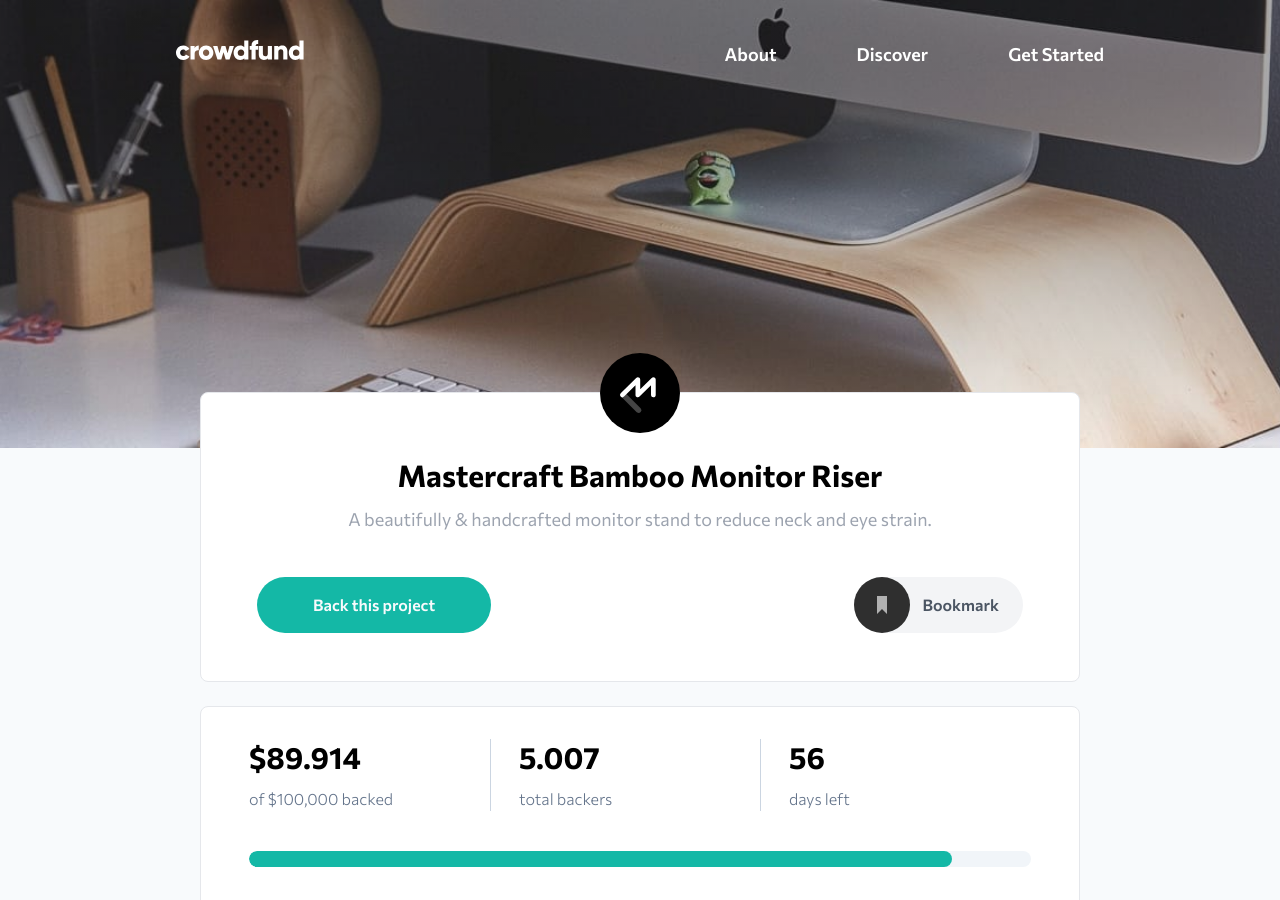
Test case: renders the app component with integrated context
Click the button "Back this project" at (374, 605), box [257, 577, 491, 633]
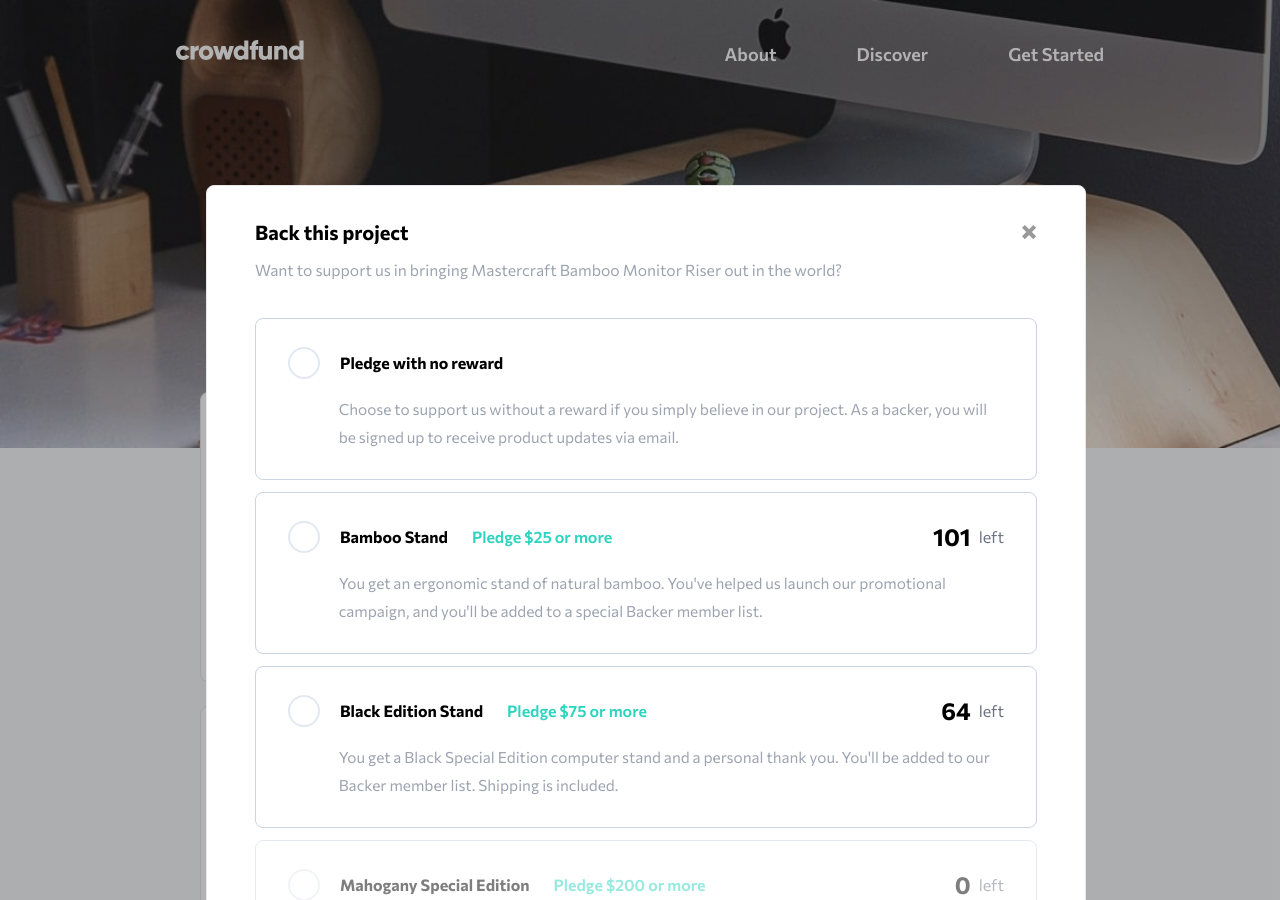
expect the picture named "Close" is shown: met, box [1022, 225, 1037, 240]
